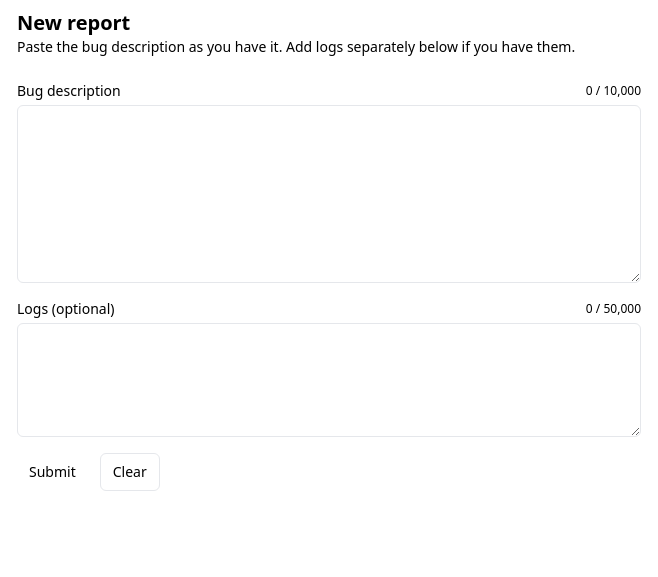
NewReport › submits valid text and shows a confirmation
Type "This description is definitely long enough to pass." into the text box labelled "Bug description" at point(329, 194), box [17,105,641,283]
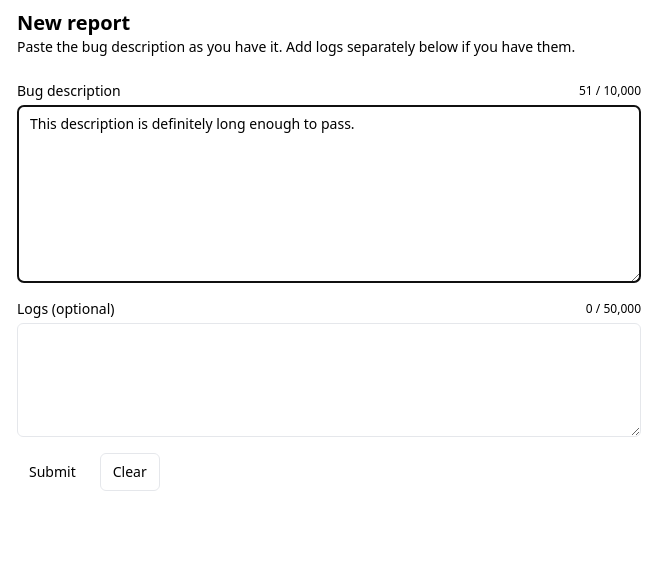
Click the button "Submit" at point(52, 472), box [17,453,88,491]
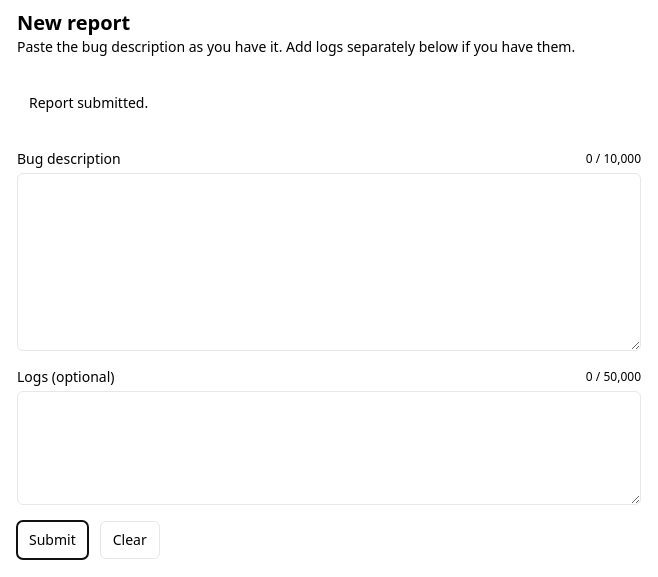
Check: the text "Report submitted." is shown, box [29,93,148,112]
